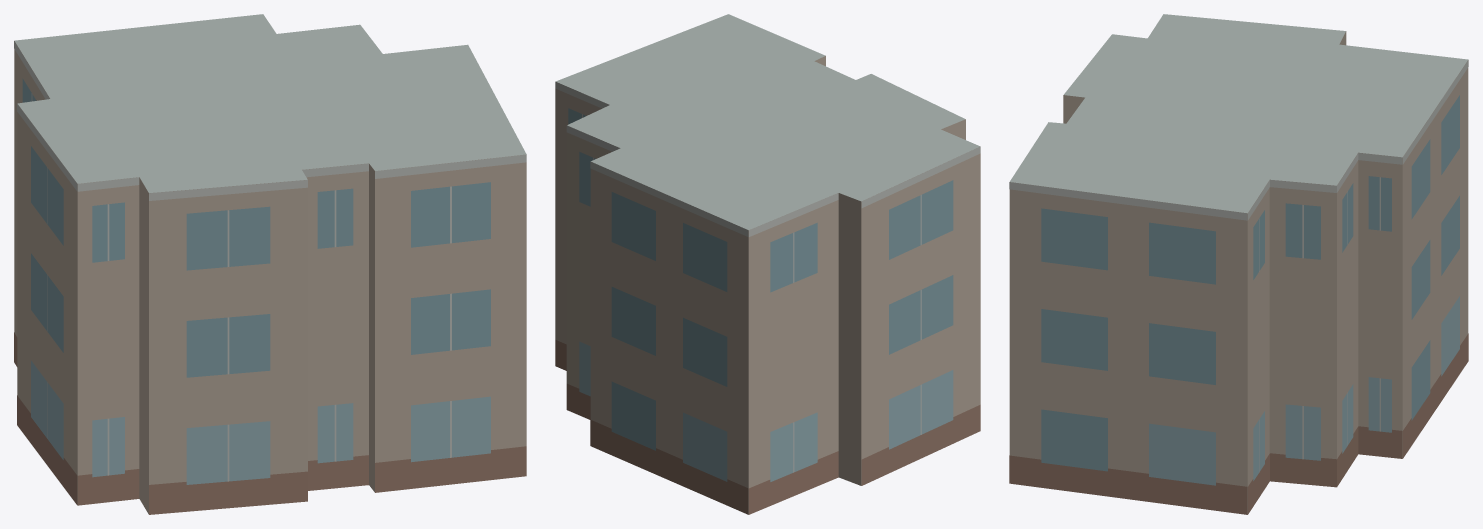
File: survey-upis-32875840.glb
3 views of the same model, side by side, from view 1: azimuth 30°, elevation 25°; view 2: azimuth 150°, elevation 25°; view 3: azimuth 270°, elevation 25° (orthographic). The views are drawn at different scales.
Visible parts, largest first — view 1: survey-upis-32875840.tmp; view 2: survey-upis-32875840.tmp; view 3: survey-upis-32875840.tmp.
Boxes of the visible parts, x1,y1,x2,y2 form: survey-upis-32875840.tmp: (14, 14, 526, 514); survey-upis-32875840.tmp: (555, 14, 980, 514); survey-upis-32875840.tmp: (1009, 14, 1468, 514).
Size of the model in its own units: 14.04 by 9.9 by 13.66.
